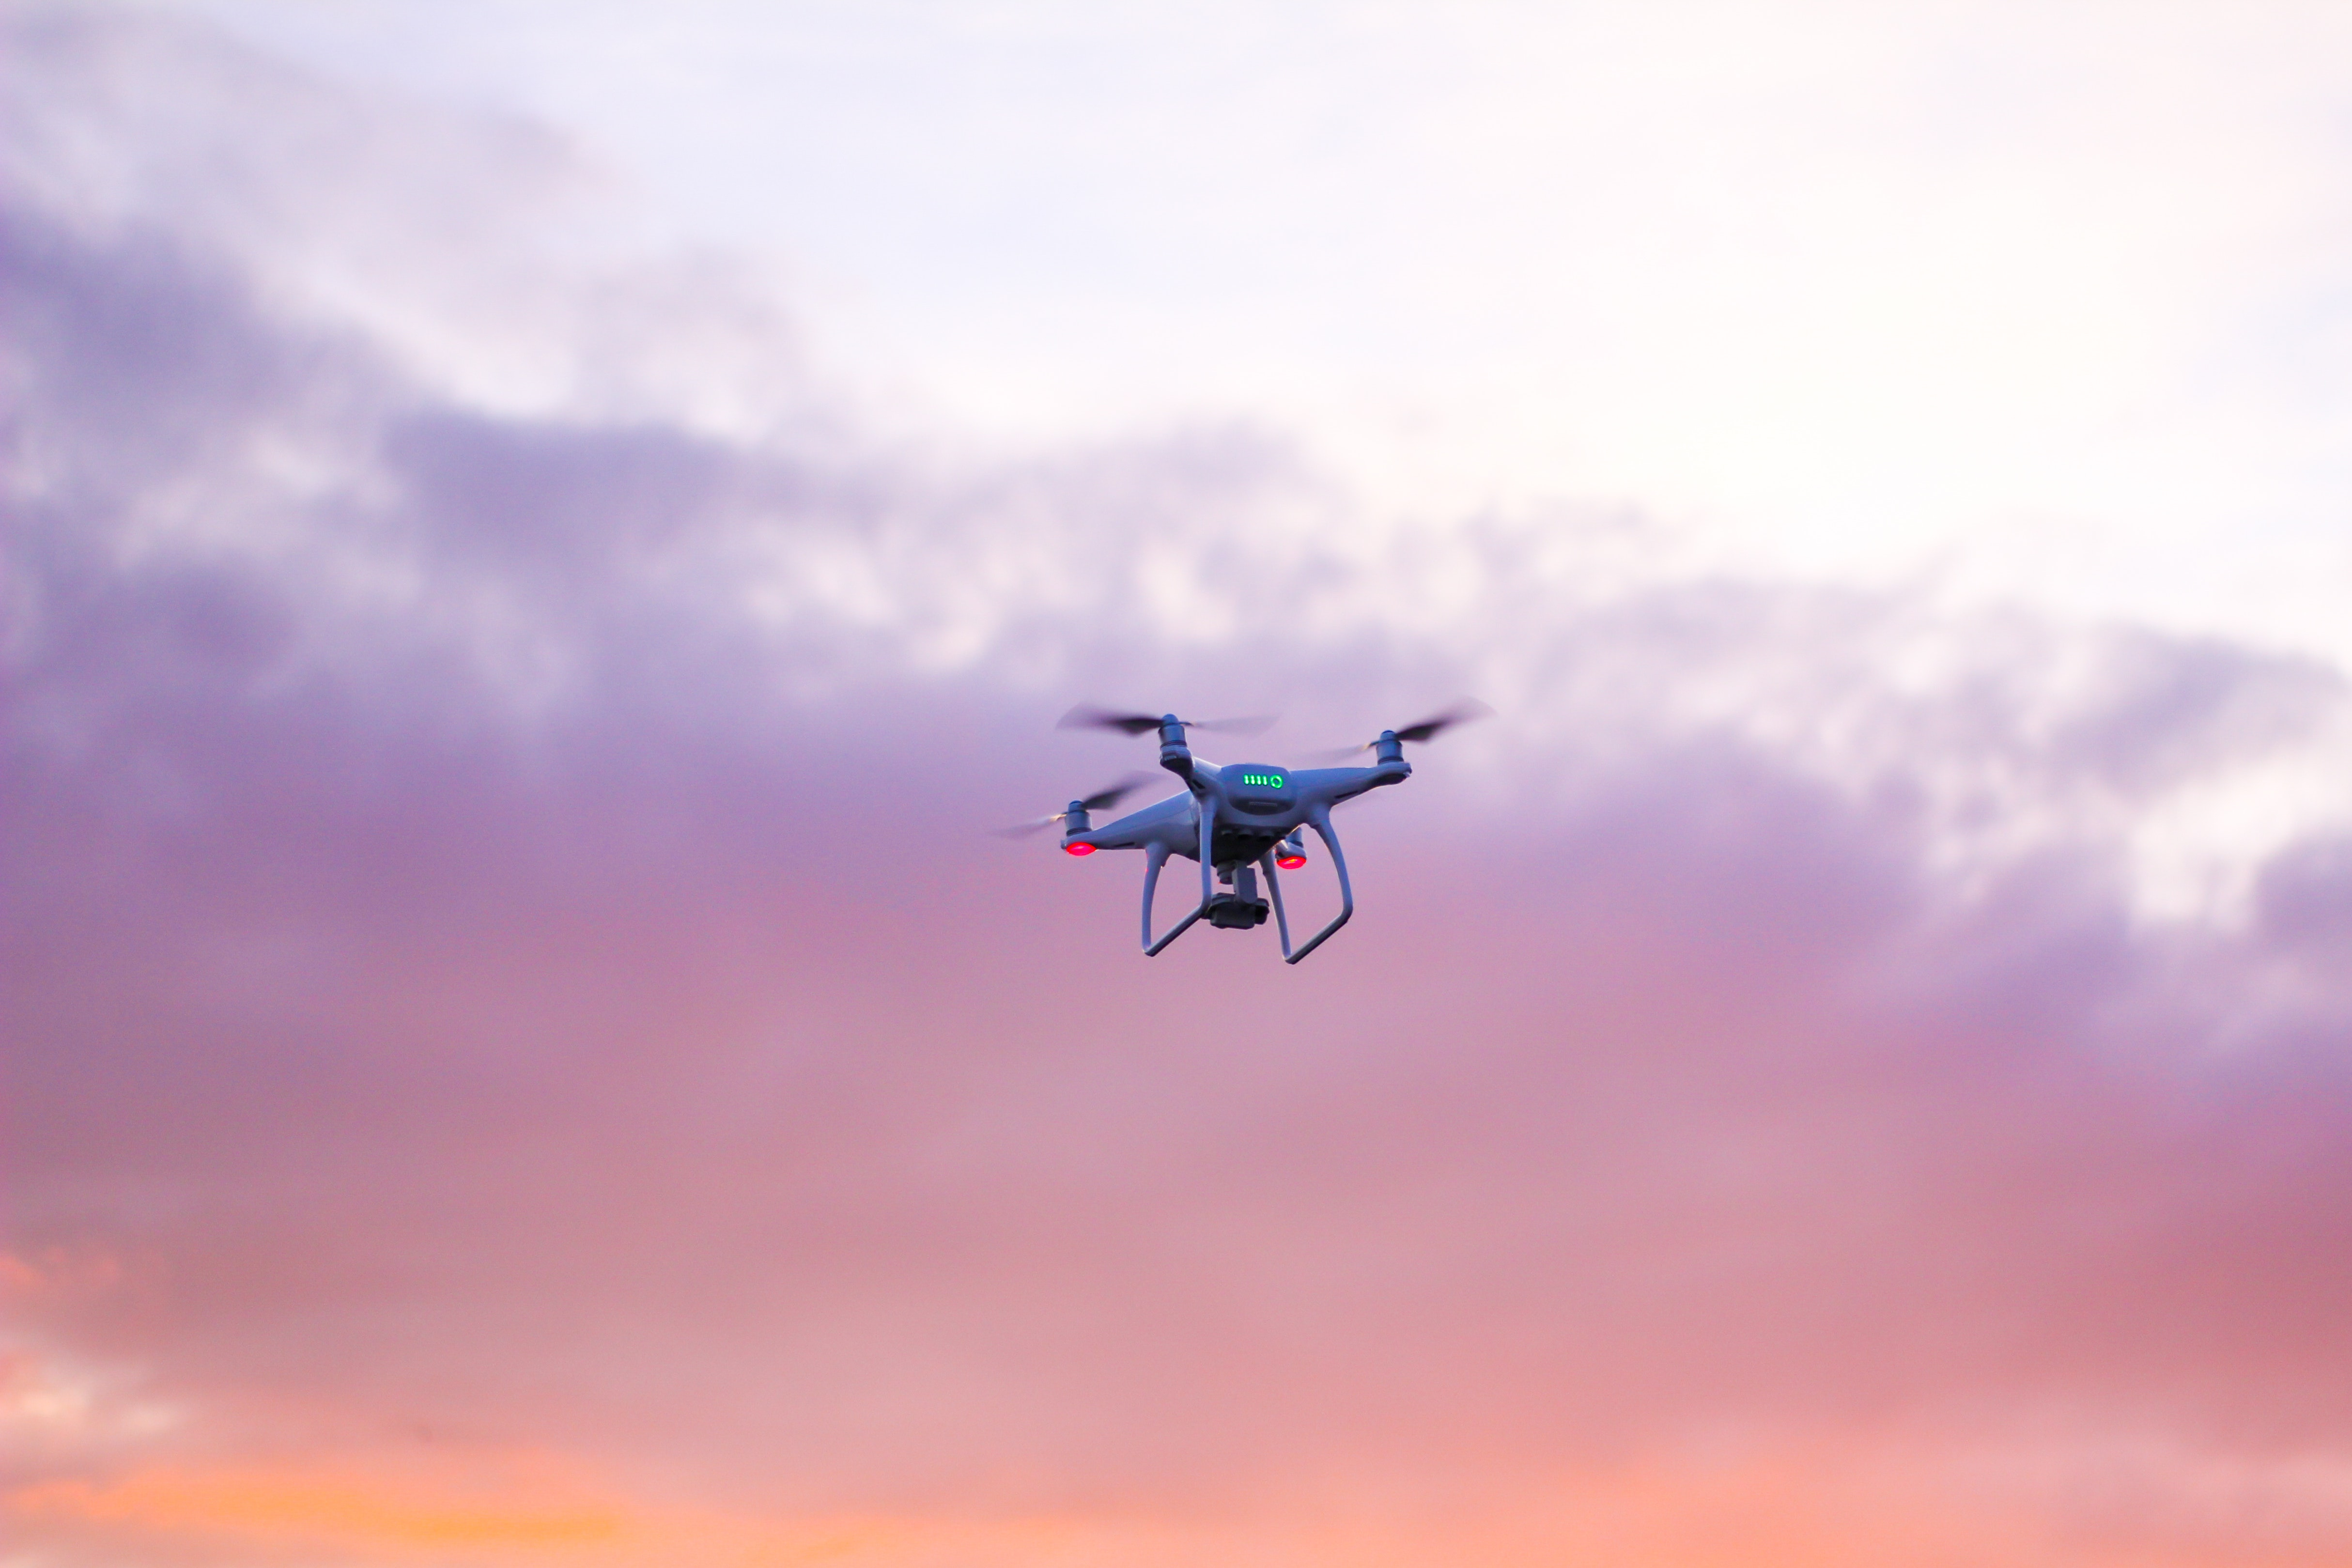drone: (920, 621, 1589, 1025)
